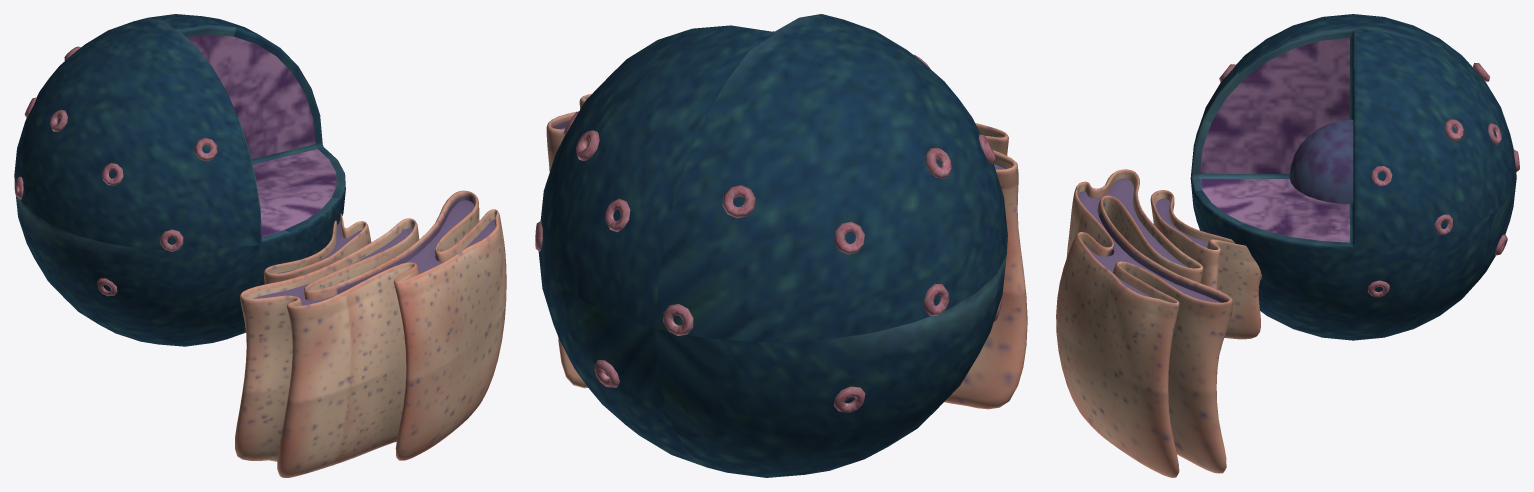
File: nucleus.glb
The picture shows the model from 3 angles, left to right: view 1: azimuth 30°, elevation 25°; view 2: azimuth 150°, elevation 25°; view 3: azimuth 270°, elevation 25°; orthographic projection. The views are drawn at different scales.
Parts seen in each view (by area): view 1: nucleus, rough.ER, Torus.015; view 2: nucleus, rough.ER, Torus.015; view 3: nucleus, rough.ER, Torus.015.
Part boxes in pixels (x1,y1,x2,y2): nucleus: (14,14,345,346); rough.ER: (235,190,506,477); Torus.015: (14,46,217,296); nucleus: (538,14,1007,477); rough.ER: (546,93,1027,409); Torus.015: (535,54,1002,412); nucleus: (1190,14,1516,340); rough.ER: (1056,169,1261,477); Torus.015: (1219,63,1519,297).
Size of the model in its own units: 0.5544 by 0.5088 by 0.6083.
1 material, 1 textured.
